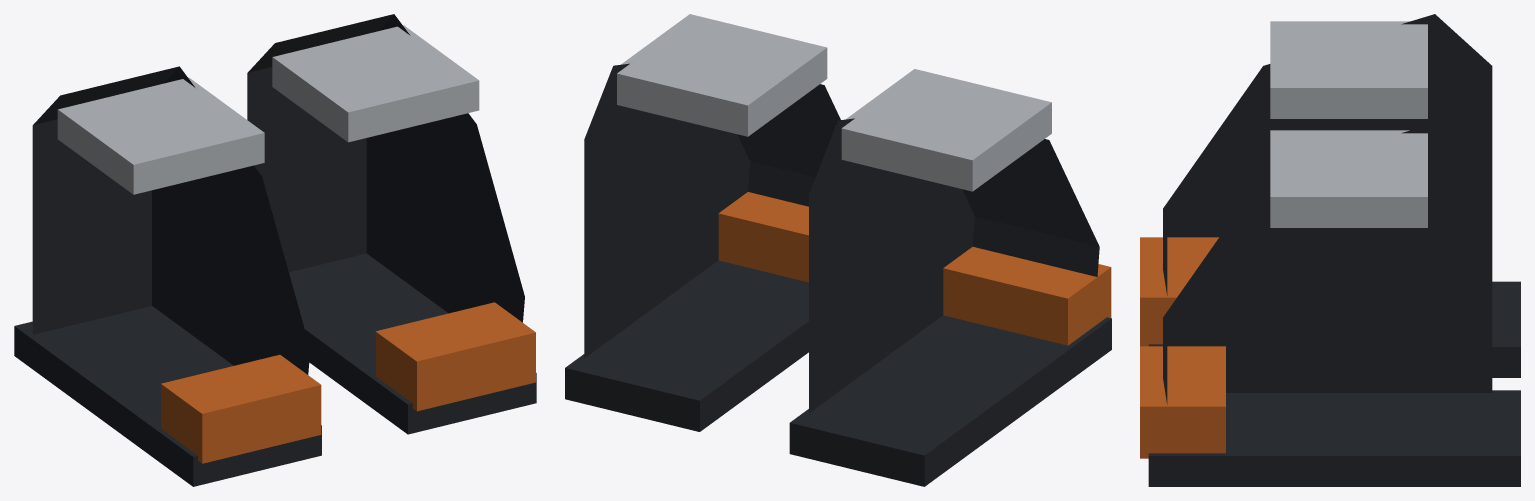
File: boots.glb
The picture shows the model from 3 angles, left to right: view 1: azimuth 30°, elevation 25°; view 2: azimuth 150°, elevation 25°; view 3: azimuth 270°, elevation 25°; orthographic projection. The views are drawn at different scales.
Visible parts, largest first — view 1: m; view 2: m; view 3: m.
Part boxes in pixels (x1=…): m: x1=14, y1=14, x2=536, y2=486; m: x1=565, y1=14, x2=1111, y2=486; m: x1=1140, y1=14, x2=1520, y2=486.
Size of the model in its own units: 0.22 by 0.176 by 0.2018.
